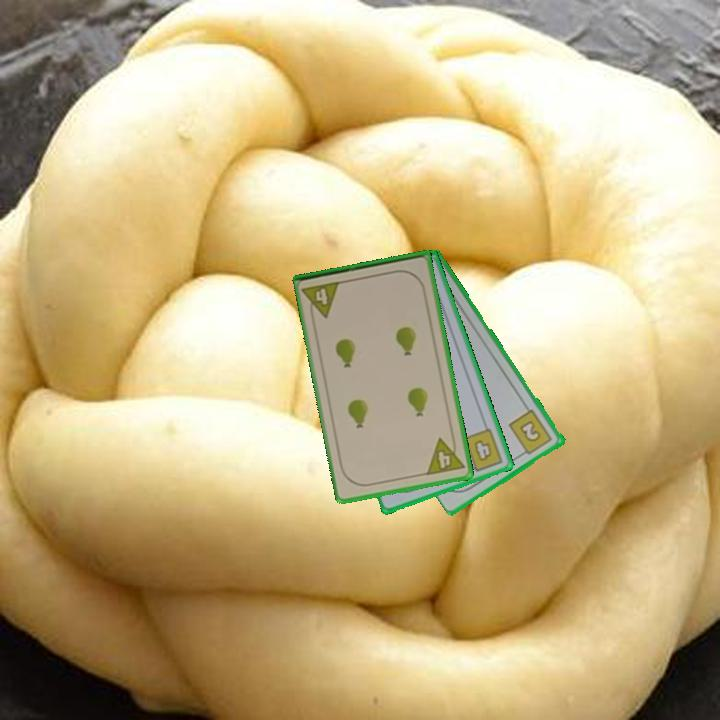2b: (506, 406, 555, 459)
4b: (460, 425, 506, 475)
4p: (423, 432, 467, 478), (300, 278, 344, 322)
